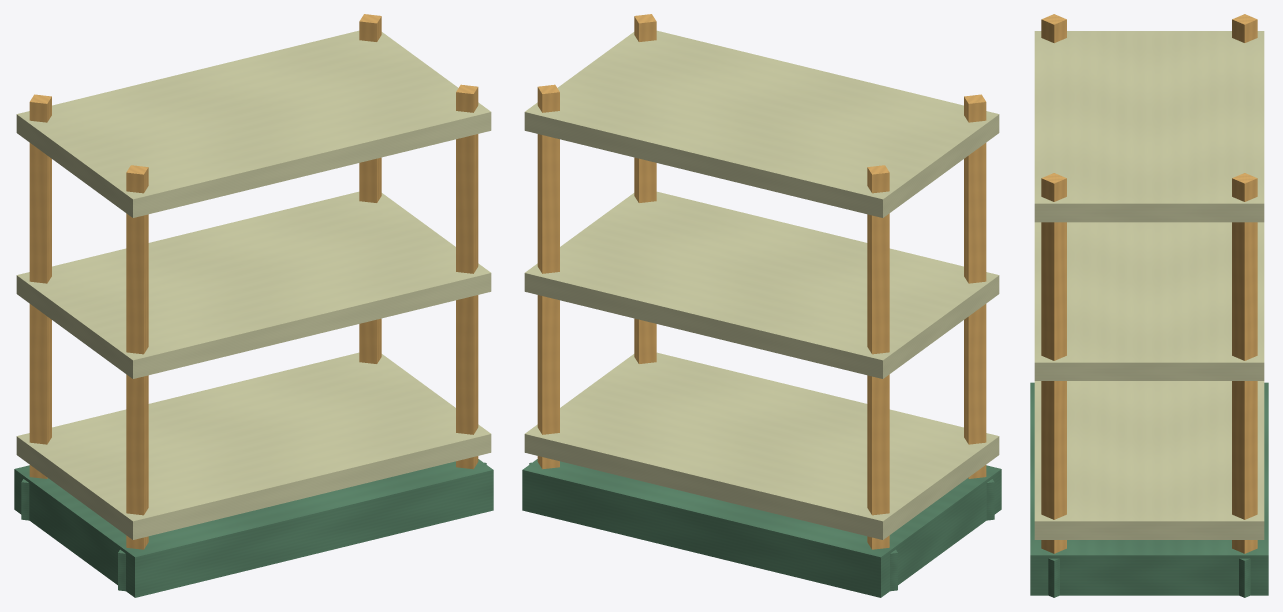
File: atlas100-s007-a06.lod2.glb
The picture shows the model from 3 angles, left to right: view 1: azimuth 30°, elevation 25°; view 2: azimuth 150°, elevation 25°; view 3: azimuth 270°, elevation 25°; orthographic projection.
Visible parts, largest first — view 1: atlas100-s007-a06:part-013, atlas100-s007-a06:part-012, atlas100-s007-a06:part-011, atlas100-s007-a06:part-000, atlas100-s007-a06:part-005, atlas100-s007-a06:part-009, atlas100-s007-a06:part-003, atlas100-s007-a06:part-007; view 2: atlas100-s007-a06:part-013, atlas100-s007-a06:part-012, atlas100-s007-a06:part-011, atlas100-s007-a06:part-000, atlas100-s007-a06:part-003, atlas100-s007-a06:part-007, atlas100-s007-a06:part-005, atlas100-s007-a06:part-009; view 3: atlas100-s007-a06:part-013, atlas100-s007-a06:part-011, atlas100-s007-a06:part-012, atlas100-s007-a06:part-000, atlas100-s007-a06:part-007, atlas100-s007-a06:part-009, atlas100-s007-a06:part-003, atlas100-s007-a06:part-005, atlas100-s007-a06:part-008, atlas100-s007-a06:part-010.
Part boxes in pixels (<box>): atlas100-s007-a06:part-013: <box>16,30,491,217</box>; atlas100-s007-a06:part-012: <box>16,191,491,378</box>; atlas100-s007-a06:part-011: <box>16,352,491,539</box>; atlas100-s007-a06:part-000: <box>14,459,493,597</box>; atlas100-s007-a06:part-005: <box>126,165,148,549</box>; atlas100-s007-a06:part-009: <box>456,84,478,469</box>; atlas100-s007-a06:part-003: <box>29,94,51,478</box>; atlas100-s007-a06:part-007: <box>359,14,381,363</box>; atlas100-s007-a06:part-013: <box>524,30,999,217</box>; atlas100-s007-a06:part-012: <box>524,191,999,378</box>; atlas100-s007-a06:part-011: <box>524,352,999,539</box>; atlas100-s007-a06:part-000: <box>522,459,1001,597</box>; atlas100-s007-a06:part-003: <box>867,165,889,549</box>; atlas100-s007-a06:part-007: <box>537,84,559,469</box>; atlas100-s007-a06:part-005: <box>964,94,986,478</box>; atlas100-s007-a06:part-009: <box>634,14,656,363</box>; atlas100-s007-a06:part-013: <box>1034,31,1264,222</box>; atlas100-s007-a06:part-011: <box>1034,381,1264,539</box>; atlas100-s007-a06:part-012: <box>1034,222,1264,380</box>; atlas100-s007-a06:part-000: <box>1030,382,1268,595</box>; atlas100-s007-a06:part-007: <box>1232,173,1257,553</box>; atlas100-s007-a06:part-009: <box>1041,173,1066,553</box>; atlas100-s007-a06:part-003: <box>1232,14,1257,42</box>; atlas100-s007-a06:part-005: <box>1041,14,1066,42</box>; atlas100-s007-a06:part-008: <box>1239,558,1250,597</box>; atlas100-s007-a06:part-010: <box>1048,558,1059,597</box>.
Size of the model in its own units: 2.47 by 2.66 by 1.4.
3 materials, 3 textured.
